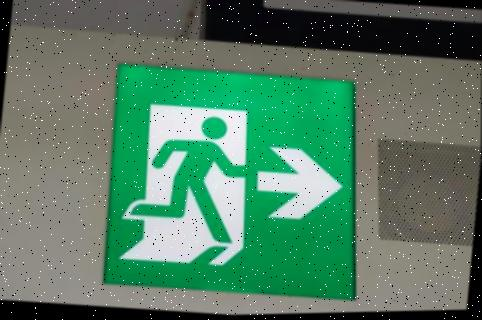emergency_exit: (102, 62, 357, 300)
